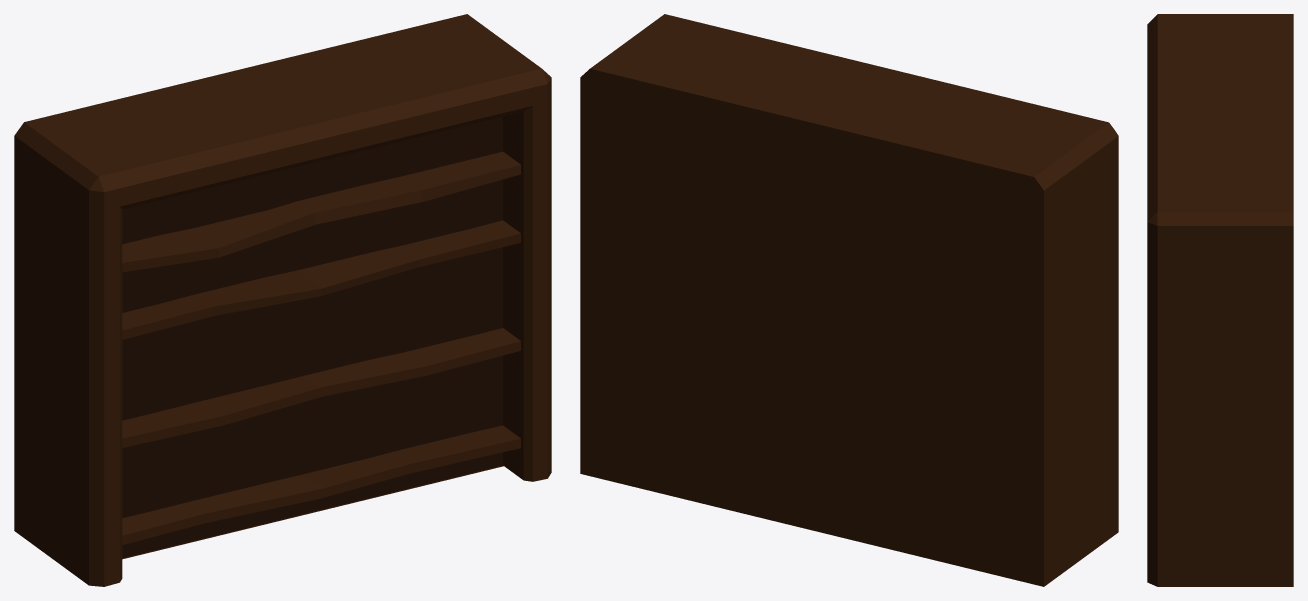
File: storage.glb
3 views of the same model, side by side, from view 1: azimuth 30°, elevation 25°; view 2: azimuth 150°, elevation 25°; view 3: azimuth 270°, elevation 25° (orthographic). The views are drawn at different scales.
Visible parts, largest first — view 1: storage; view 2: storage; view 3: storage.
Boxes of the visible parts, bbox=[...] form: storage: bbox=[14, 14, 551, 586]; storage: bbox=[580, 14, 1118, 586]; storage: bbox=[1147, 14, 1293, 586].
Bounding box in the file's own units: 2.62 × 2.2 × 0.7875.
